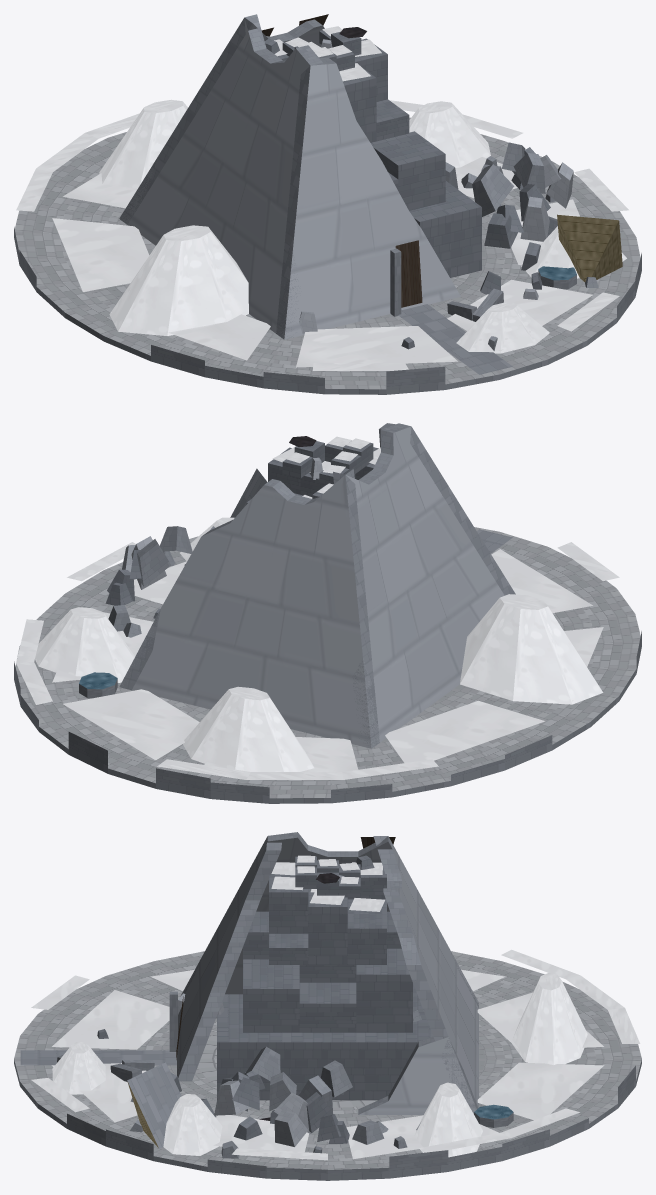
Rendered from pyramid_large_destroyed_lod0.glb.
The picture shows the model from 3 angles, top to bottom: view 1: azimuth 30°, elevation 25°; view 2: azimuth 150°, elevation 25°; view 3: azimuth 270°, elevation 25°; orthographic projection. The views are drawn at different scales.
Visible parts, largest first — view 1: pyramid_large_destroyed_lod0; view 2: pyramid_large_destroyed_lod0; view 3: pyramid_large_destroyed_lod0.
Boxes of the visible parts, box(x1,y1,x2,y2) form: pyramid_large_destroyed_lod0: box(14, 14, 641, 394); pyramid_large_destroyed_lod0: box(14, 423, 641, 803); pyramid_large_destroyed_lod0: box(14, 832, 641, 1180).
Bounding box in the file's own units: 1.68 × 0.7205 × 1.9.
1 material, 1 textured.
